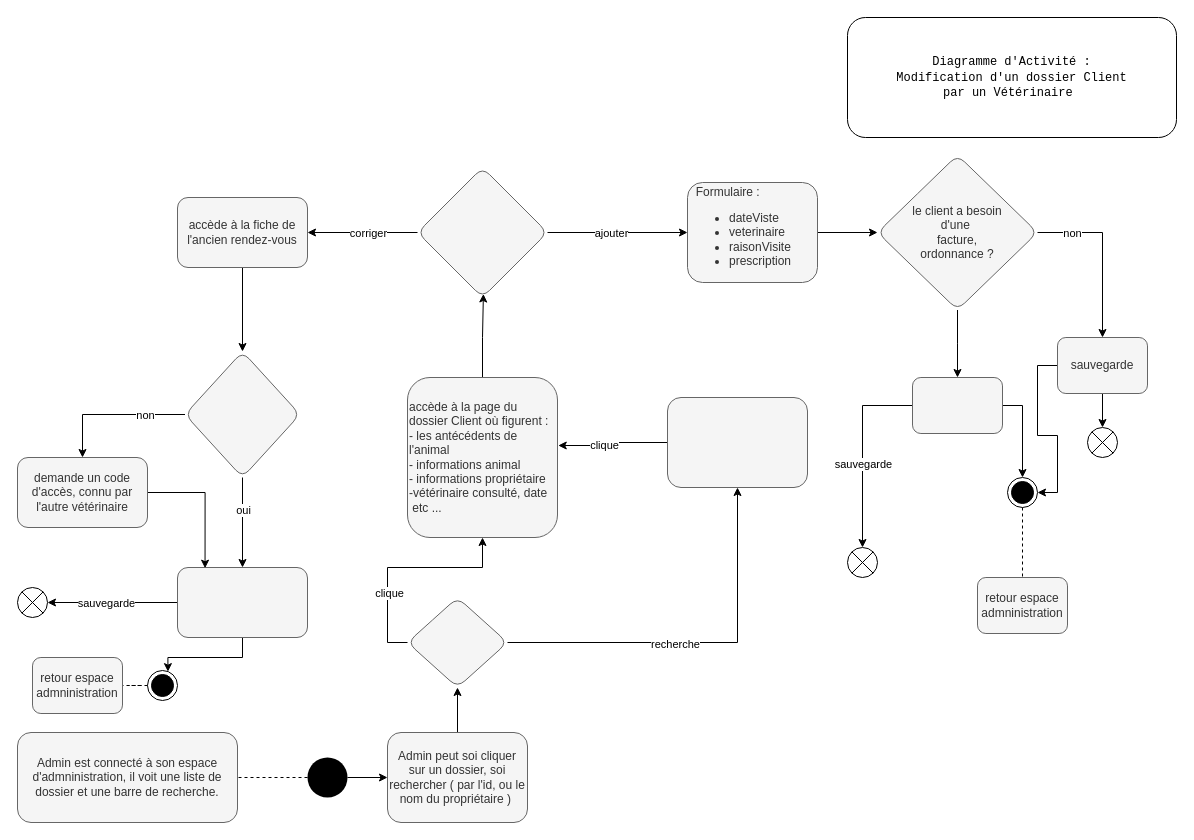
Some shapes in this 1194 by 840 pixel diagram are drawn without their labels. The shapes that lost their labels are listed below. From the top down, each one's box as (x1, y1, x2, y2) in pixels, then its label:
(416, 166, 548, 298): ajouter une visite, corriger ancien rdv ?
(184, 350, 300, 478): était-ce le même vétérinaire ?
(912, 376, 1002, 434): impression des données
(666, 396, 808, 488): une nouvelle liste de dossier lui est proposée
(176, 566, 308, 638): correction des erreurs
(406, 596, 508, 688): clique ou cherche ?
